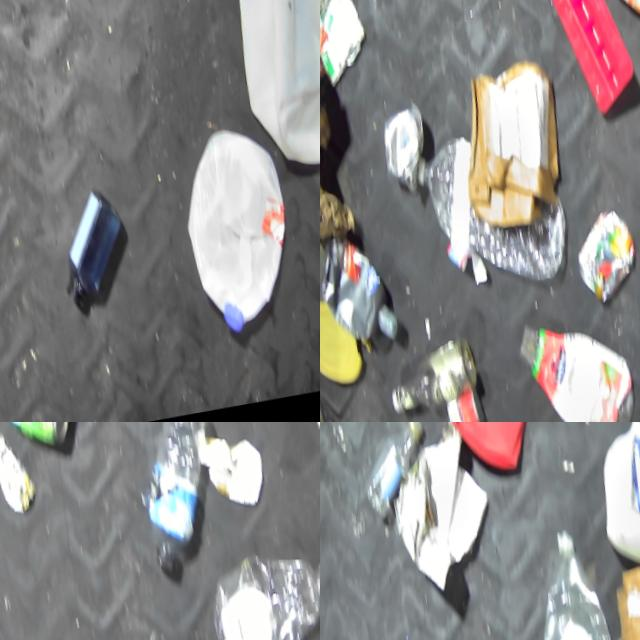can: (320, 0, 375, 91), (0, 422, 85, 454)
milk_jug: (172, 121, 309, 342), (222, 0, 320, 180), (587, 422, 640, 567)
plastic_bottle: (413, 128, 578, 287), (131, 422, 239, 584), (528, 530, 631, 640), (208, 544, 320, 640), (355, 422, 437, 529)
